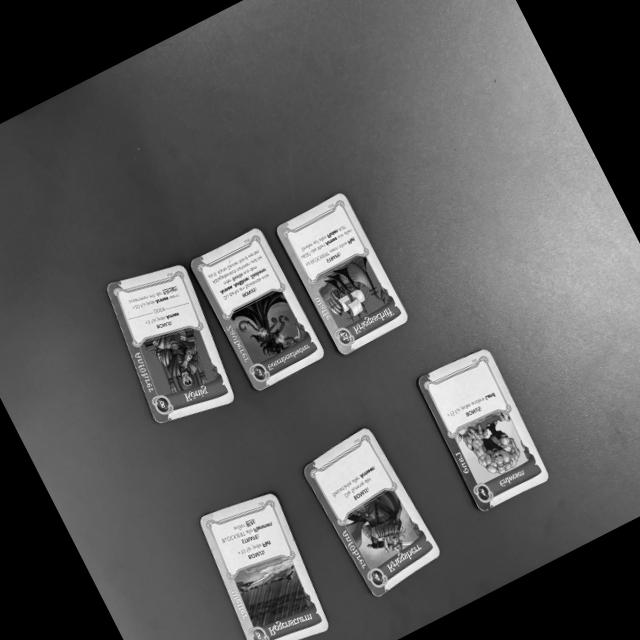Earth Elemental: (413, 344, 552, 513)
King: (104, 264, 237, 423)
Necromancer: (188, 225, 329, 397)
Rainstorm: (195, 492, 331, 640)
Warlord: (298, 423, 442, 602)
Warship: (273, 184, 414, 362)
